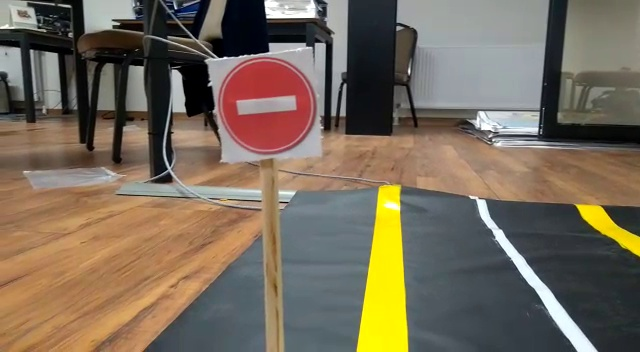girisi_olmayan_yol: (208, 57, 319, 161)
